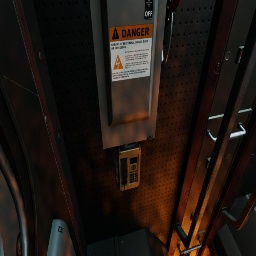EmergencyPhone ,: (114, 142, 141, 194)
SafetySwitchPanel ,: (89, 0, 181, 149)
